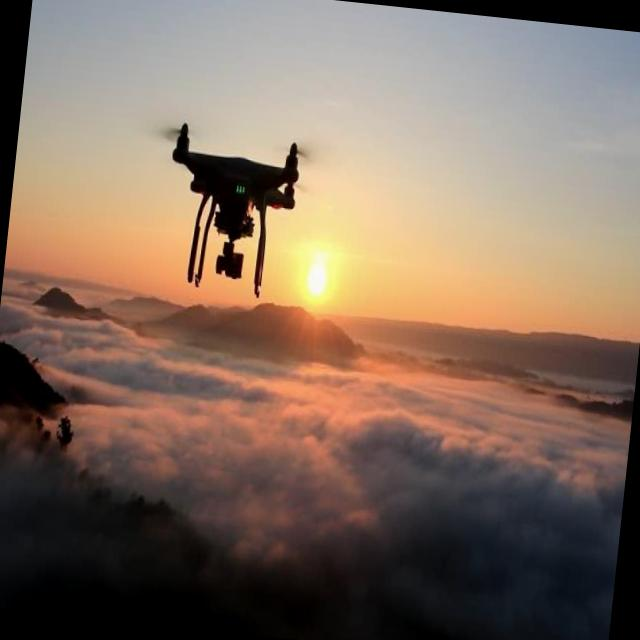drone: (157, 120, 305, 301)
